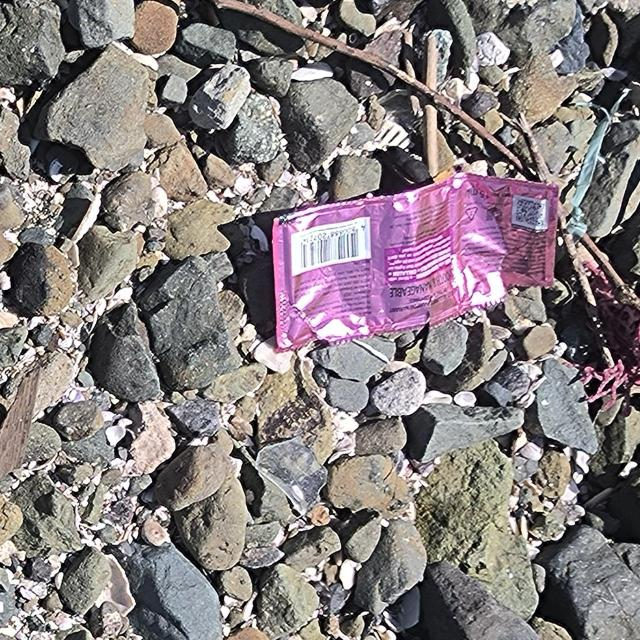plastic_waste: (272, 171, 562, 355)
